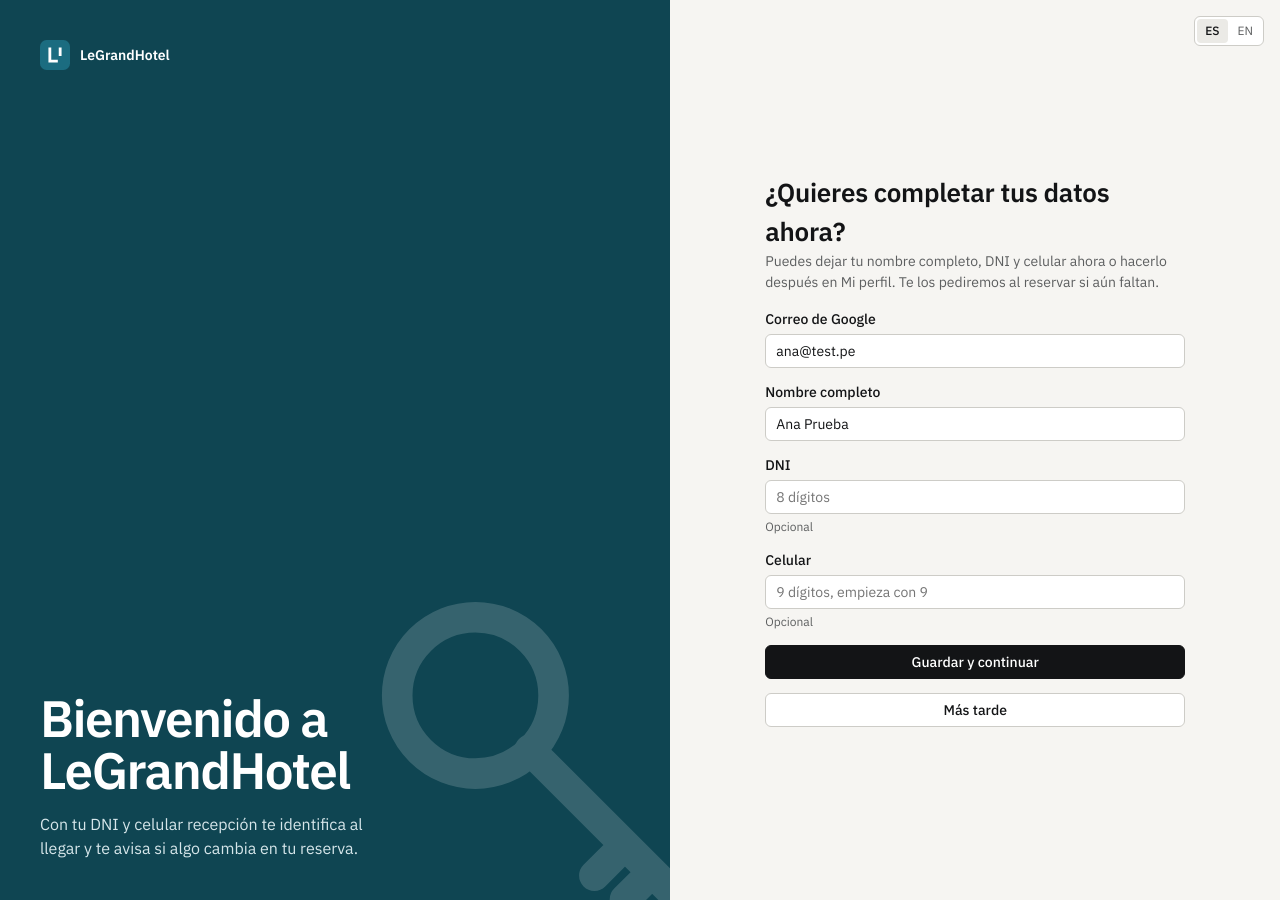
Test: cliente con Google › al registrarse con Google se le ofrece completar sus datos, sin obligarlo
The width and height of the screenshot is (1280, 900).
Check: the heading "¿Quieres completar tus datos ahora?" is shown, box [765, 175, 1109, 248]
Click the button "Más tarde". click: (975, 710)
box: [765, 693, 1185, 727]
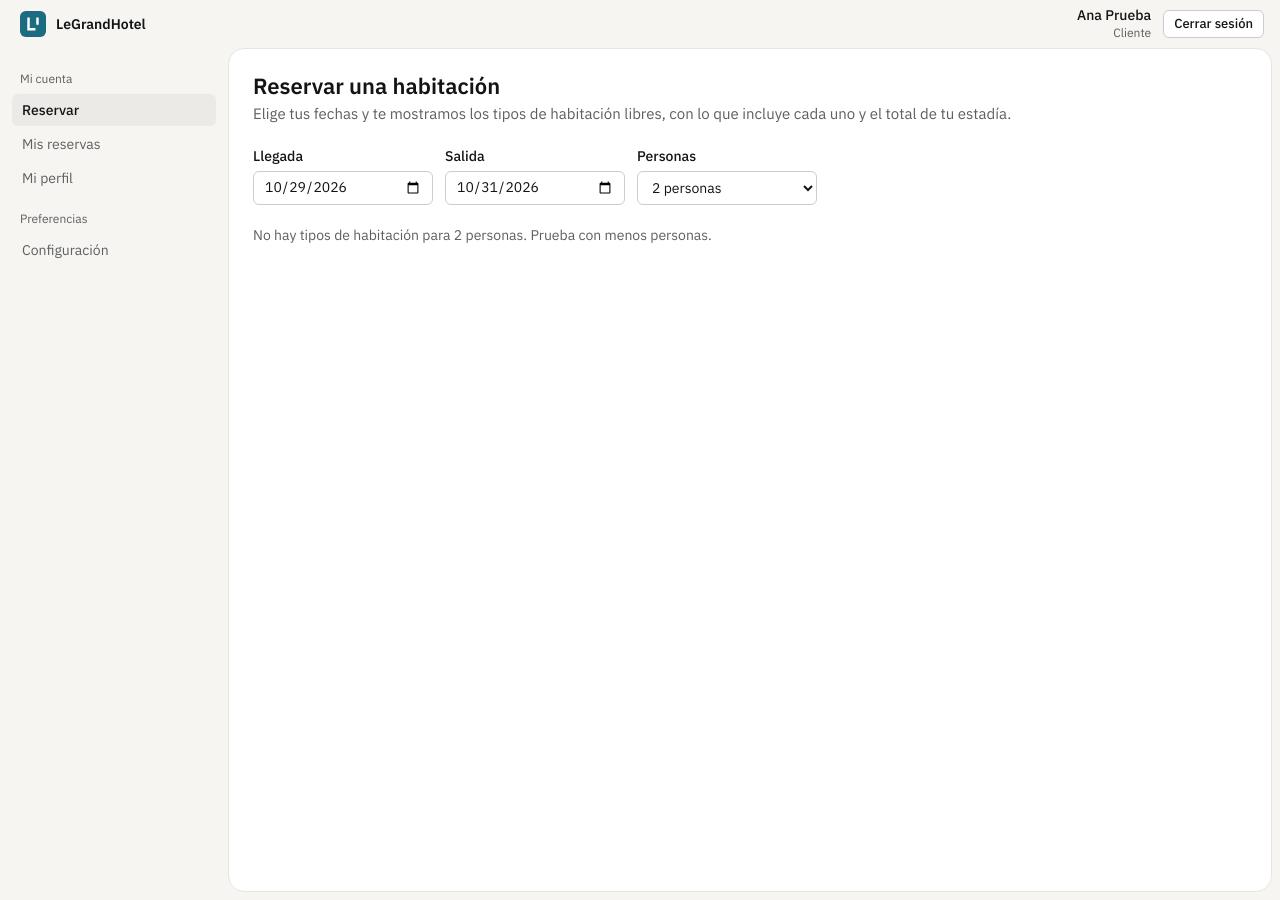
Check: the heading "Reservar una habitación" is shown, box [253, 71, 500, 100]
